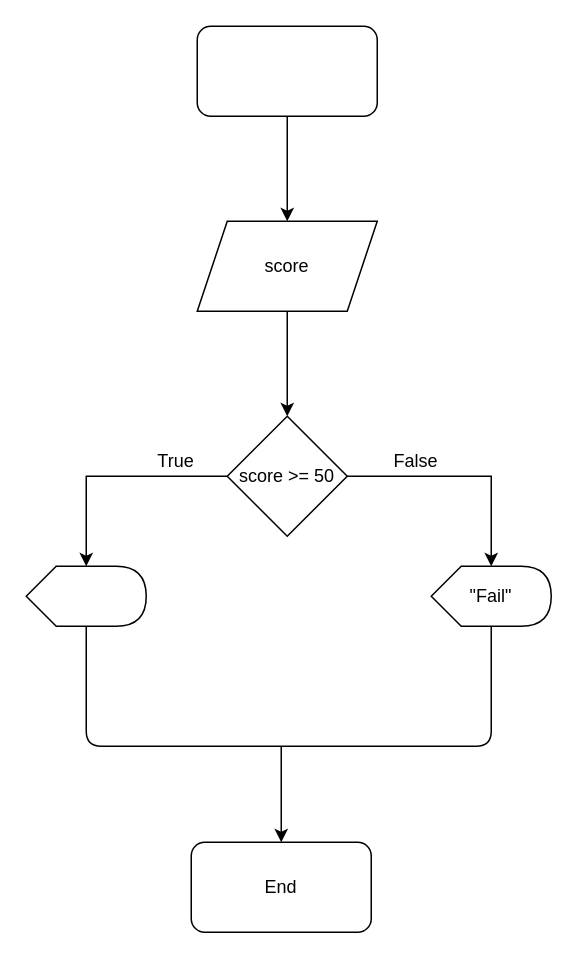
Image size: 578x959. Some labels were removed from this diagram. The centre of each missing label's shape, as x and y in pixels:
"Pass": (x=85, y=595)
start: (x=286, y=70)
